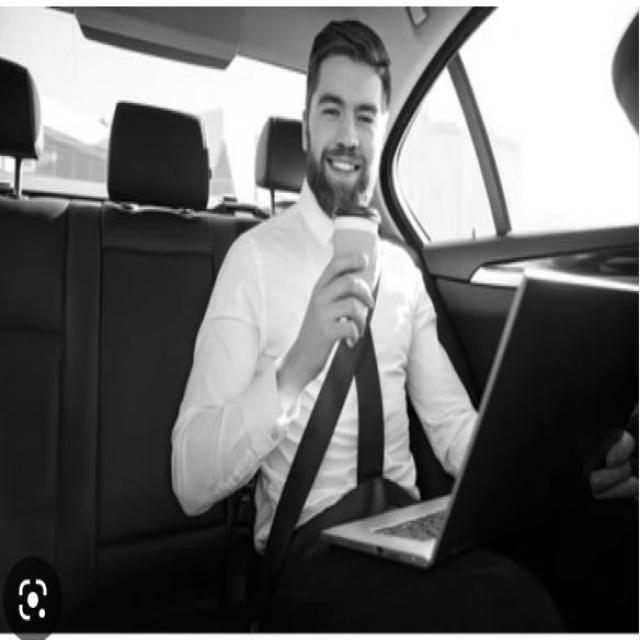Drinking: (329, 200, 385, 328)
